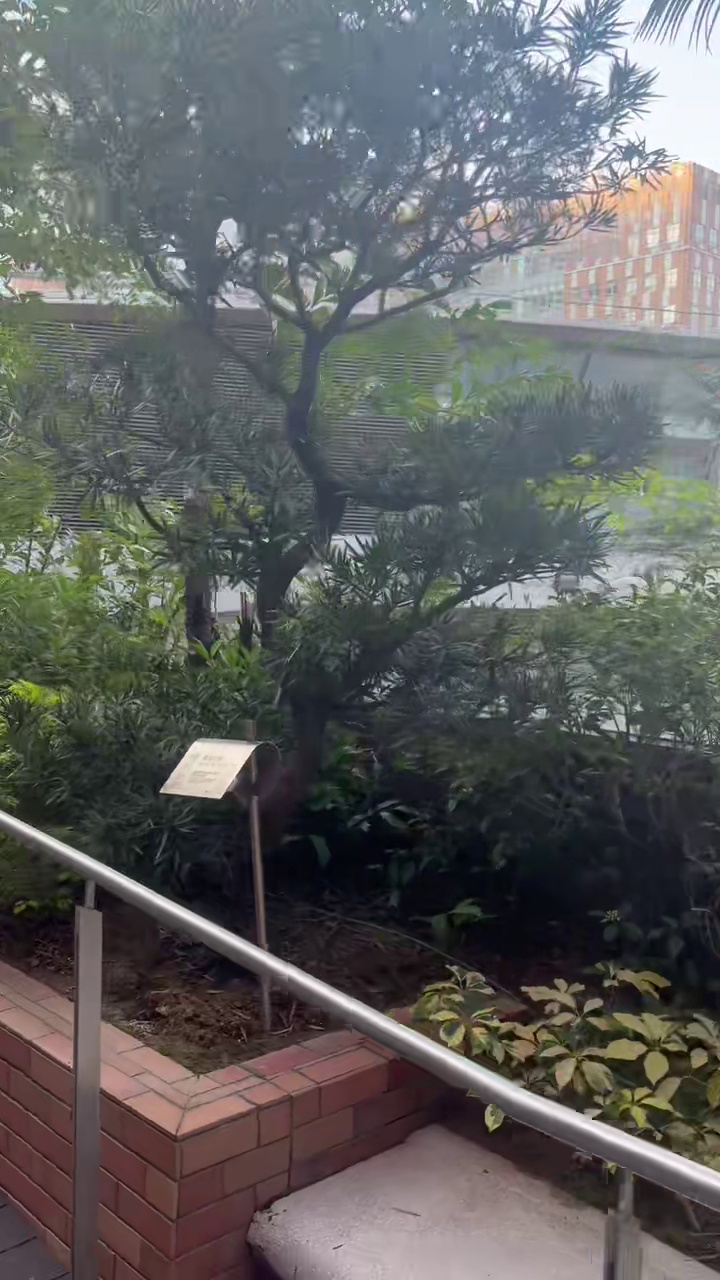Podocarpus macrophyllus: (45, 0, 663, 837)
